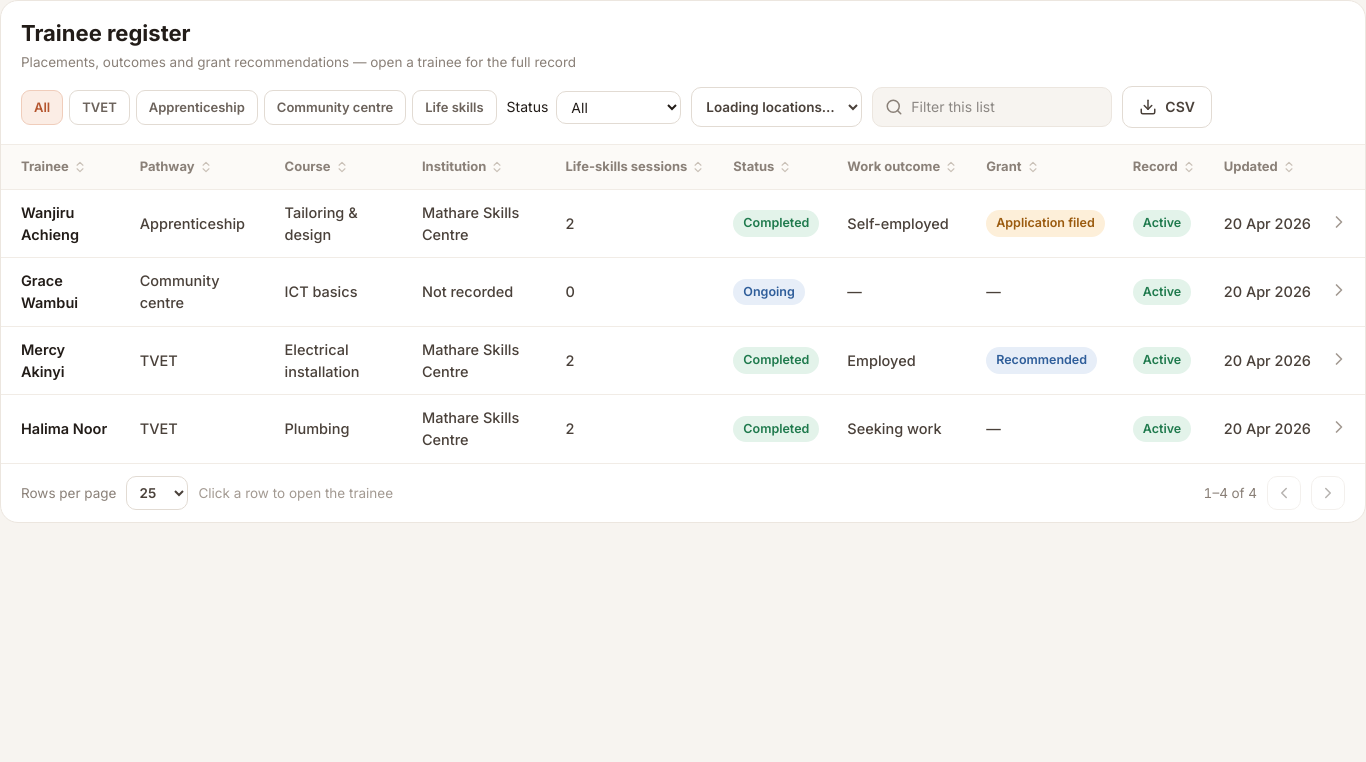
it: trainee drawer › disables recommending until training is completed, with the reason
Click the button named "Open Grace Wambui, ICT basics" at coordinates (1339, 290), box [1327,278,1351,302]
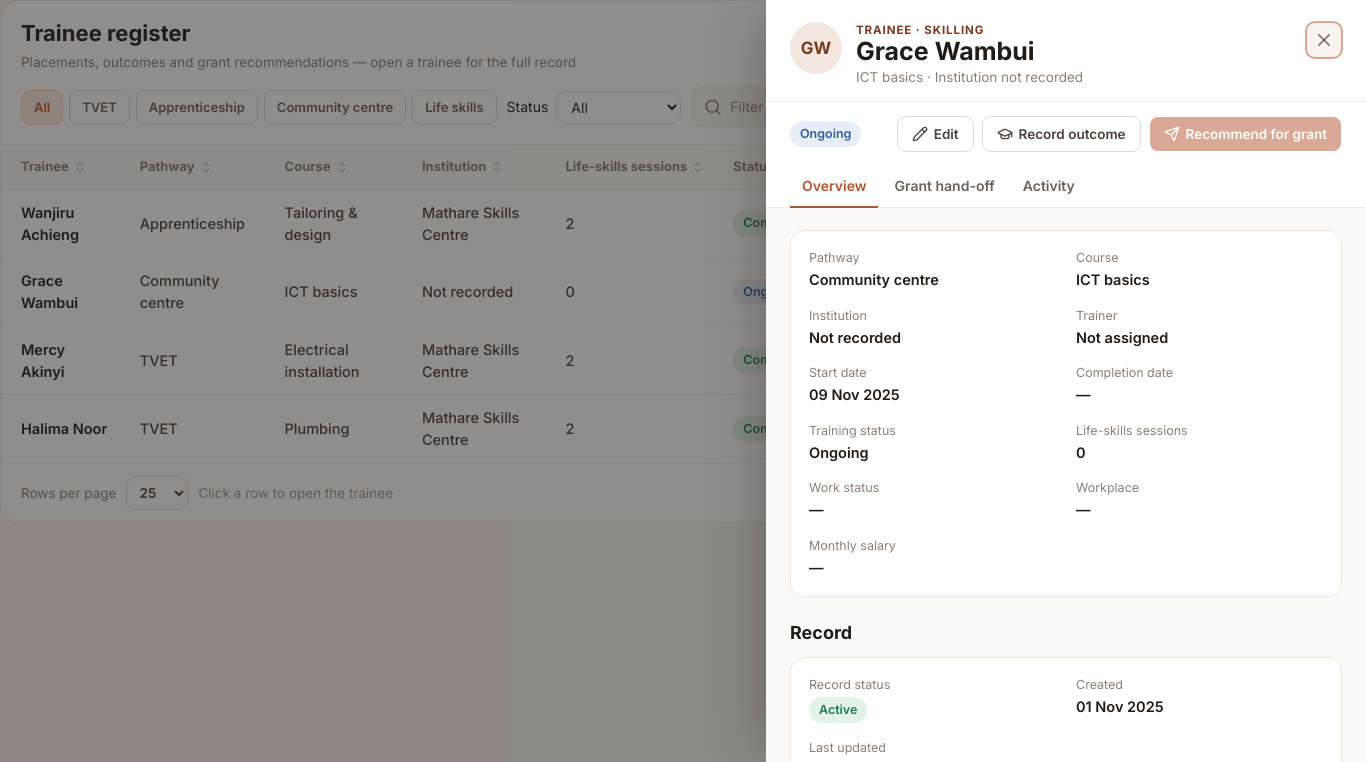
Expected: the button "Recommend for grant" is disabled, [1148,116,1342,152]
